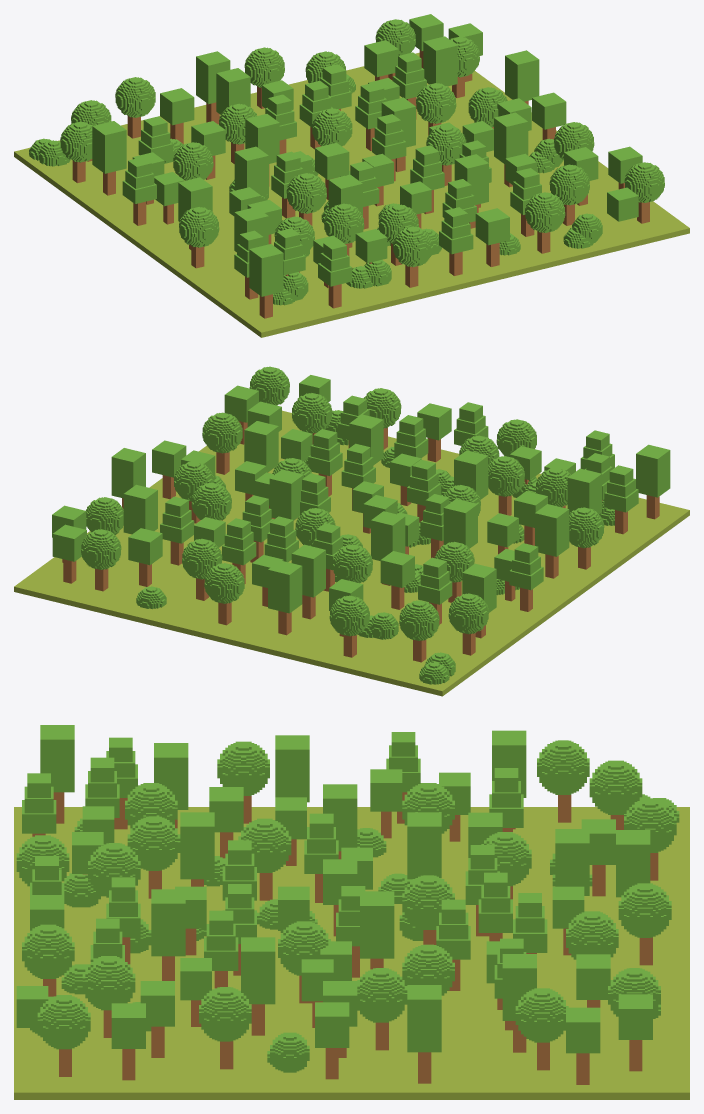
File: forest.obj
3 views of the same model, one above another, from view 1: azimuth 30°, elevation 25°; view 2: azimuth 150°, elevation 25°; view 3: azimuth 270°, elevation 25° (orthographic). The views are drawn at different scales.
Bounding box in the file's own units: 25.6 × 4 × 25.6.
1 material, 1 textured.
